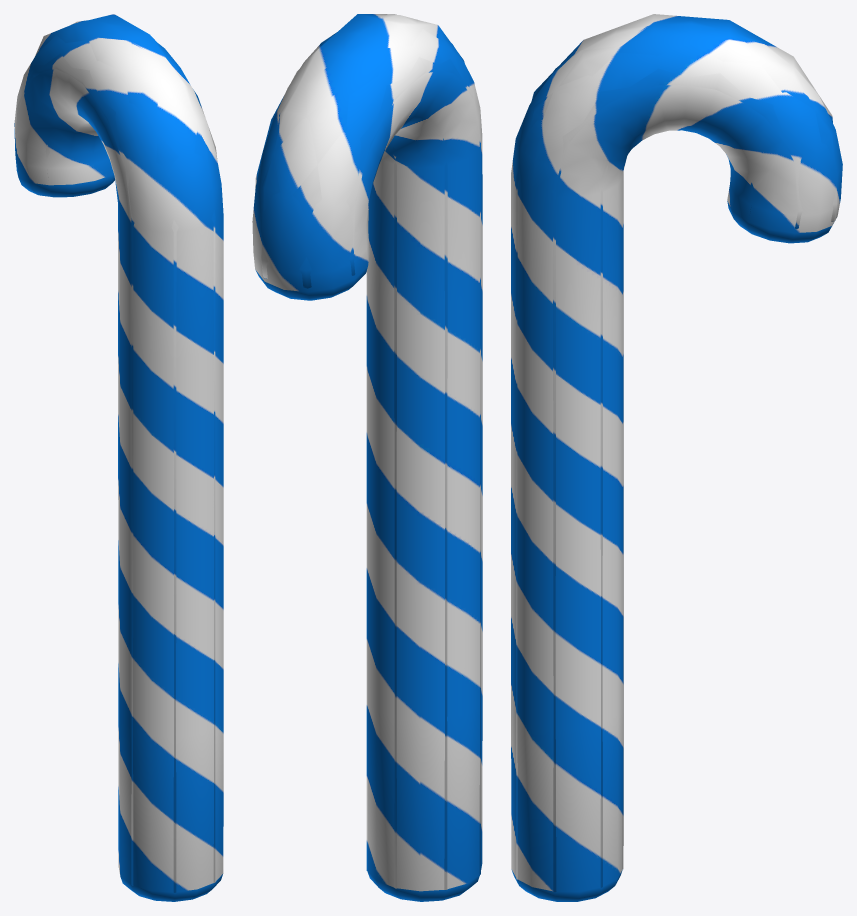
The model's file is headstone_1.dae.
The picture shows the model from 3 angles, left to right: view 1: azimuth 30°, elevation 25°; view 2: azimuth 150°, elevation 25°; view 3: azimuth 270°, elevation 25°; orthographic projection. The views are drawn at different scales.
Visible parts, largest first — view 1: candycane_b_a800, candycane_b_a500; view 2: candycane_b_a800, candycane_b_a500; view 3: candycane_b_a800, candycane_b_a500.
Boxes of the visible parts, x1=… form: candycane_b_a800: x1=14, y1=20, x2=223, y2=901; candycane_b_a500: x1=15, y1=14, x2=217, y2=892; candycane_b_a800: x1=252, y1=15, x2=482, y2=901; candycane_b_a500: x1=255, y1=14, x2=480, y2=890; candycane_b_a800: x1=511, y1=20, x2=842, y2=901; candycane_b_a500: x1=516, y1=14, x2=837, y2=892.
Bounding box in the file's own units: 0.2309 × 0.6967 × 2.
Materials: 1 (1 with a texture image).
